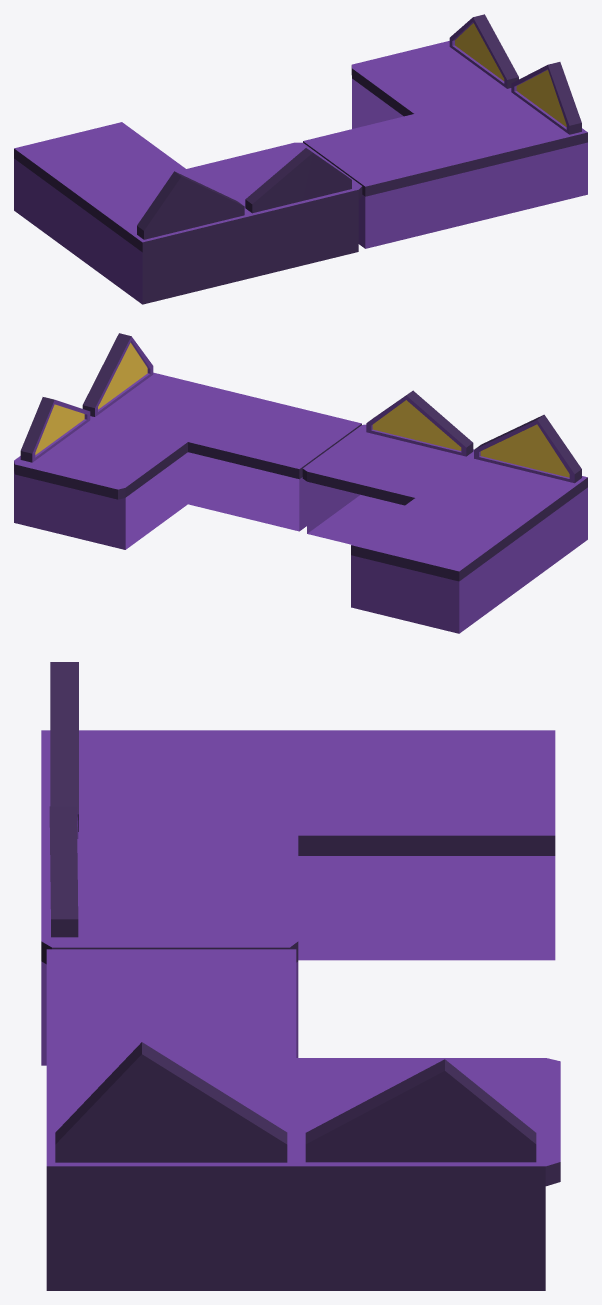
File: Big_deckstop_L.glb
3 renders of one model, top to bottom at view 1: azimuth 30°, elevation 25°; view 2: azimuth 150°, elevation 25°; view 3: azimuth 270°, elevation 25°, orthographic. The views are drawn at different scales.
Parts seen in each view (by area): view 1: Big_deckstockp_L; view 2: Big_deckstockp_L; view 3: Big_deckstockp_L.
Part boxes in pixels (left/top/right/bottom): Big_deckstockp_L: left=14, top=14, right=587, bottom=304; Big_deckstockp_L: left=14, top=333, right=587, bottom=633; Big_deckstockp_L: left=41, top=662, right=560, bottom=1290.
Bounding box in the file's own units: 3.01 × 0.75 × 1.52.
Materials: 1 (1 with a texture image).
